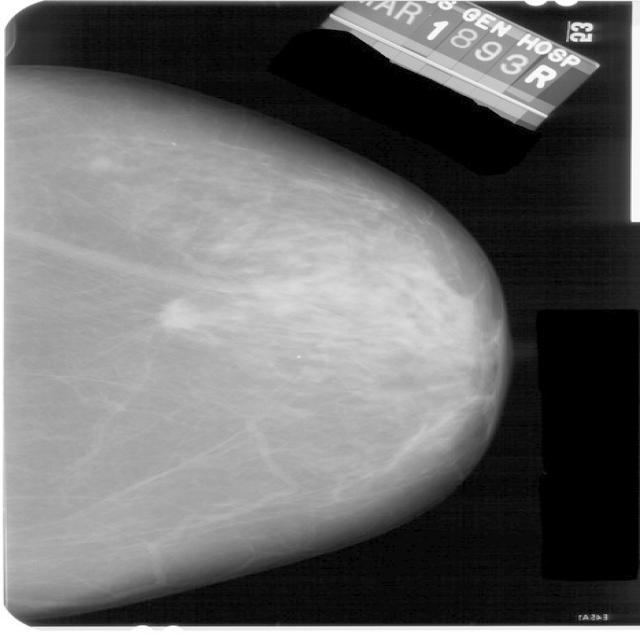tumour: (154, 297, 200, 330)
